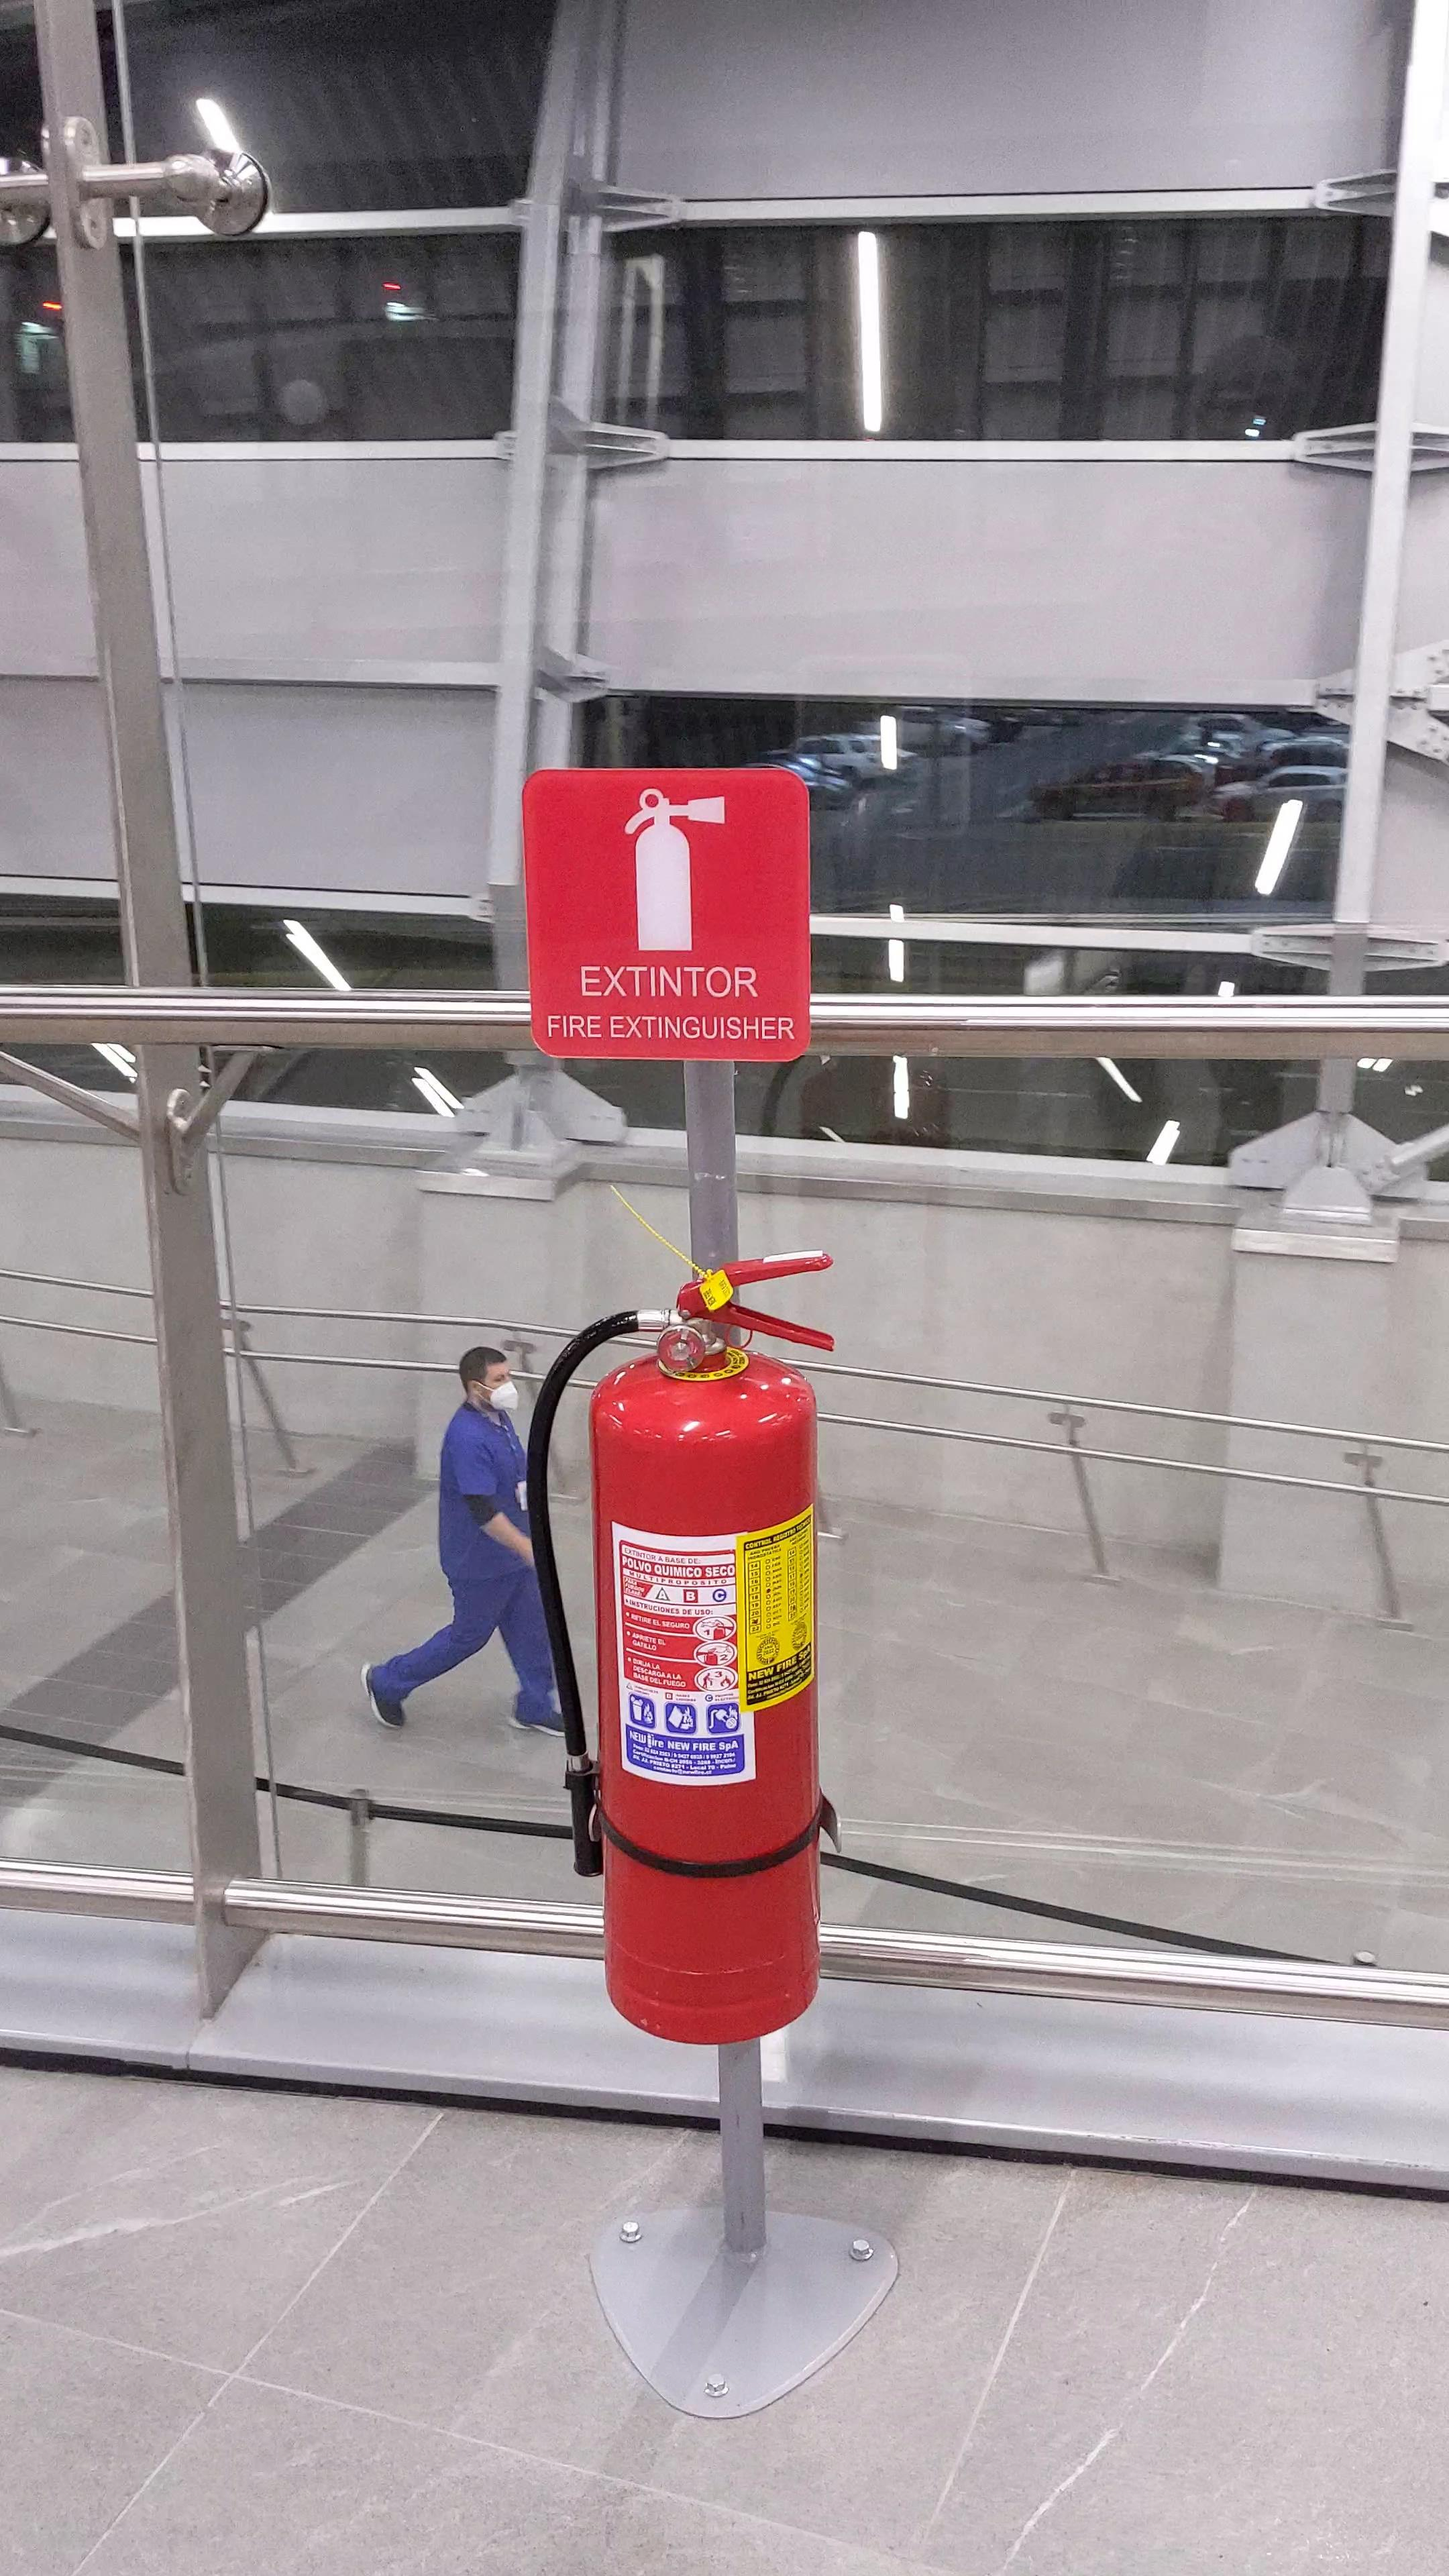extinguisher symbol: (612, 778, 732, 952)
fire-extinguisher: (520, 1240, 853, 2056)
